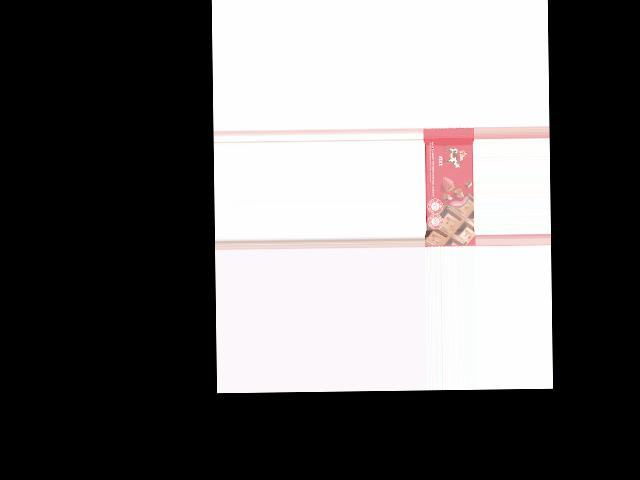chocolate: (422, 126, 474, 245)
